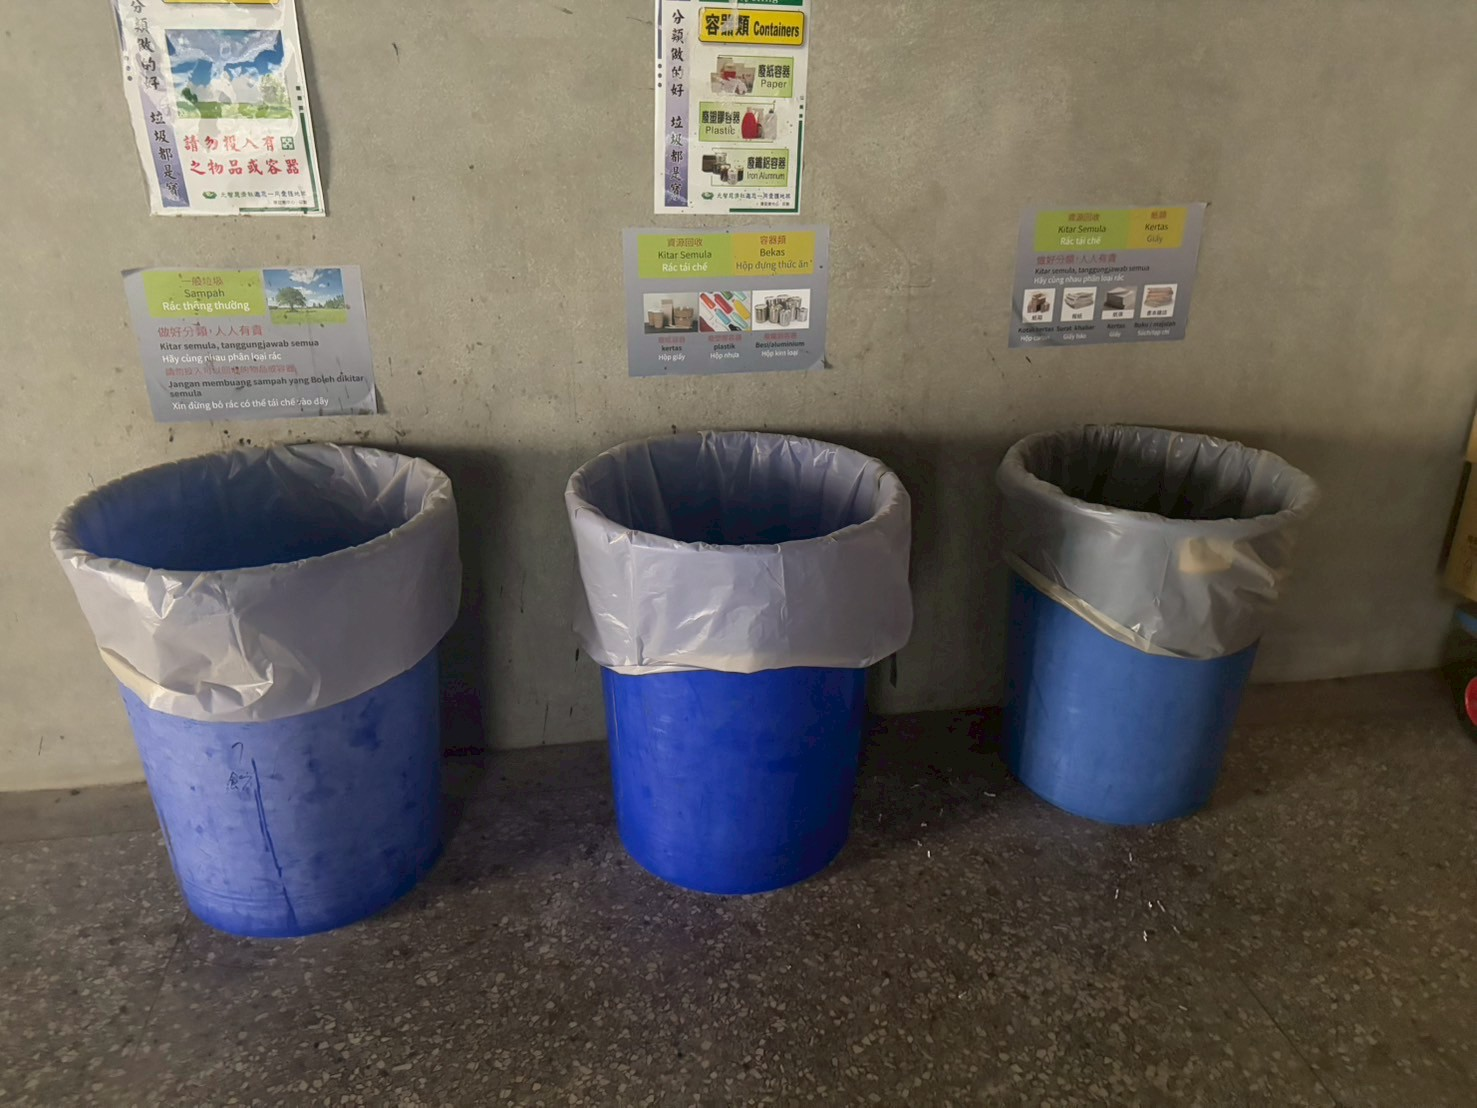normal_bin: (41, 432, 484, 930), (553, 409, 947, 905), (992, 400, 1326, 848)
